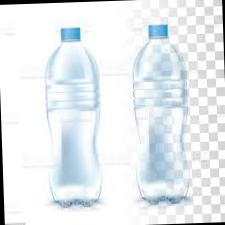plastic: (31, 15, 121, 215), (118, 17, 210, 206)
